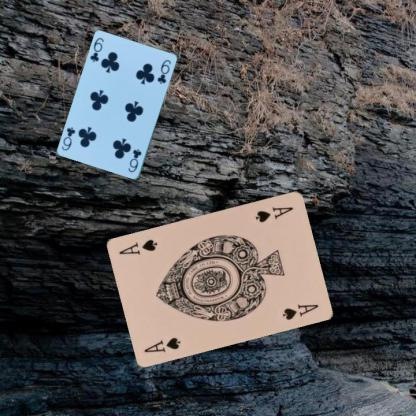6c: (88, 35, 105, 64), (126, 147, 143, 174)
As: (253, 204, 295, 224), (142, 334, 182, 353)
